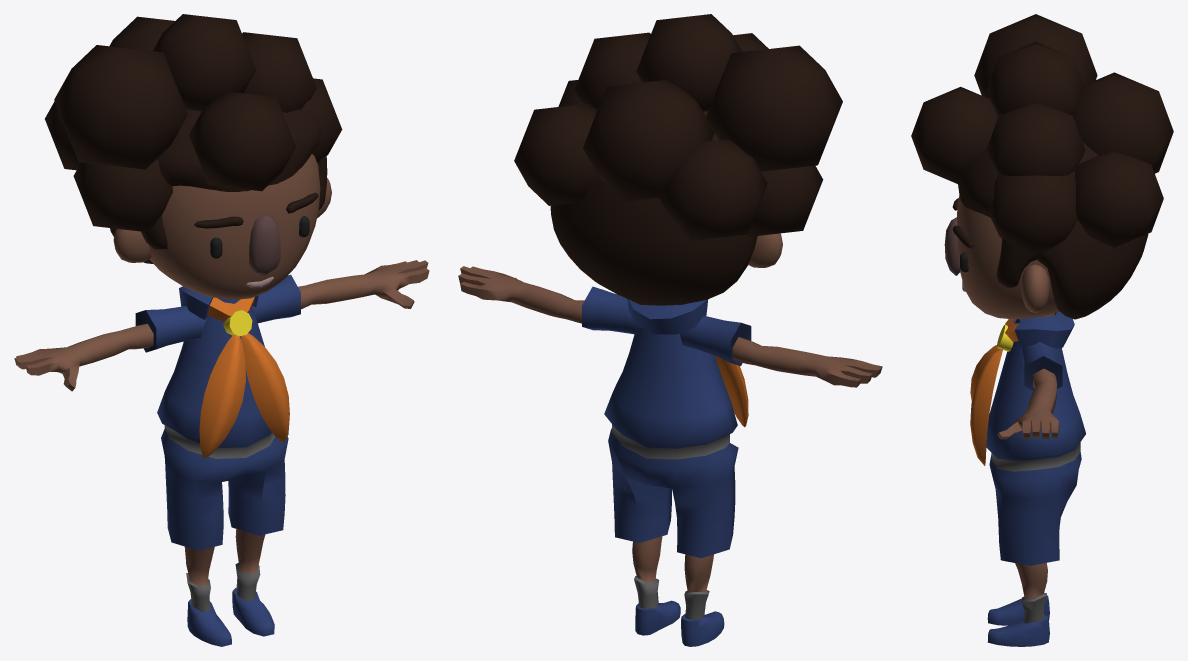
The model's file is Artie.fbx.
3 renders of one model, left to right at view 1: azimuth 30°, elevation 25°; view 2: azimuth 150°, elevation 25°; view 3: azimuth 270°, elevation 25°, orthographic. The views are drawn at different scales.
Parts seen in each view (by area): view 1: Subdivision_Surface; view 2: Subdivision_Surface; view 3: Subdivision_Surface.
Boxes of the visible parts, x1,y1,x2,y2 form: Subdivision_Surface: (14,14,429,646); Subdivision_Surface: (458,14,882,646); Subdivision_Surface: (911,14,1173,646).
Size of the model in its own units: 102 by 145 by 60.1.
Materials: 1 (1 with a texture image).
